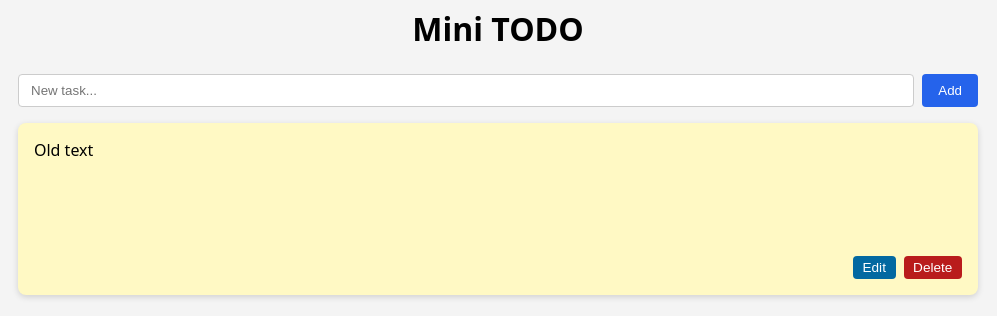
Test: edits an existing todo
Expected: the button "Old text" is shown, top-left (34, 139), bottom-right (93, 161)
Click the button "Edit". click: {"x": 874, "y": 268}
box: top-left (853, 256), bottom-right (896, 279)
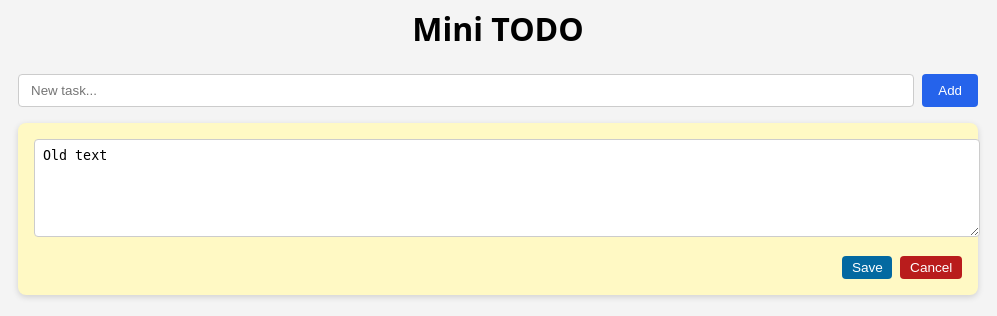
Result: the text box is shown
Replace the text in the text box with "Edited text". click: {"x": 507, "y": 188}
box: top-left (34, 139), bottom-right (980, 237)
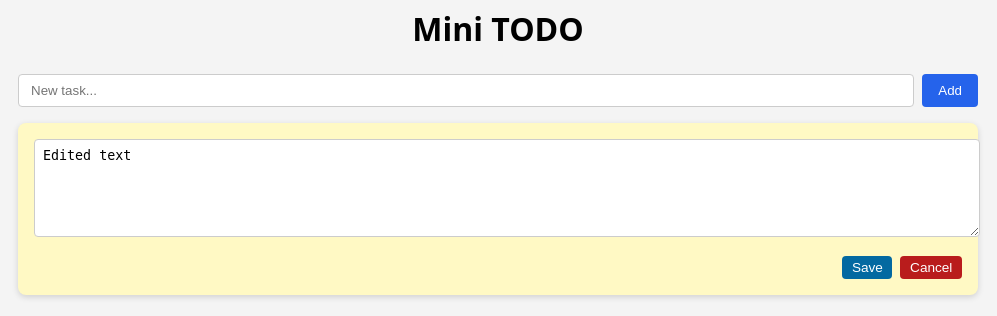
Click the button "Save". click: {"x": 867, "y": 268}
box: top-left (842, 256), bottom-right (892, 279)
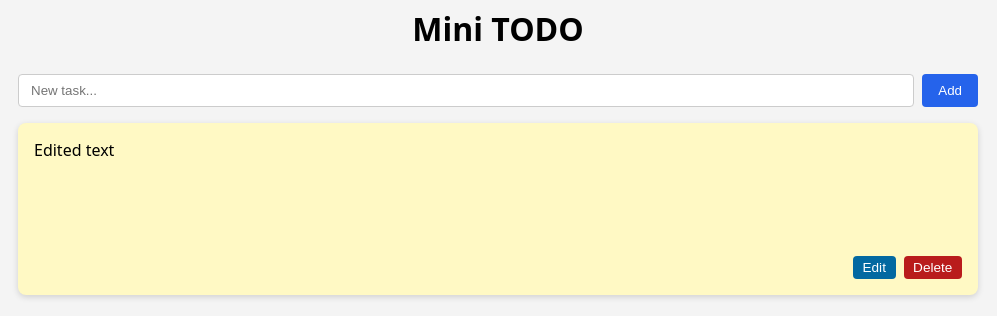
Expected: the button "Old text" is not shown
Result: the button "Edited text" is shown at top-left (34, 139), bottom-right (114, 161)
